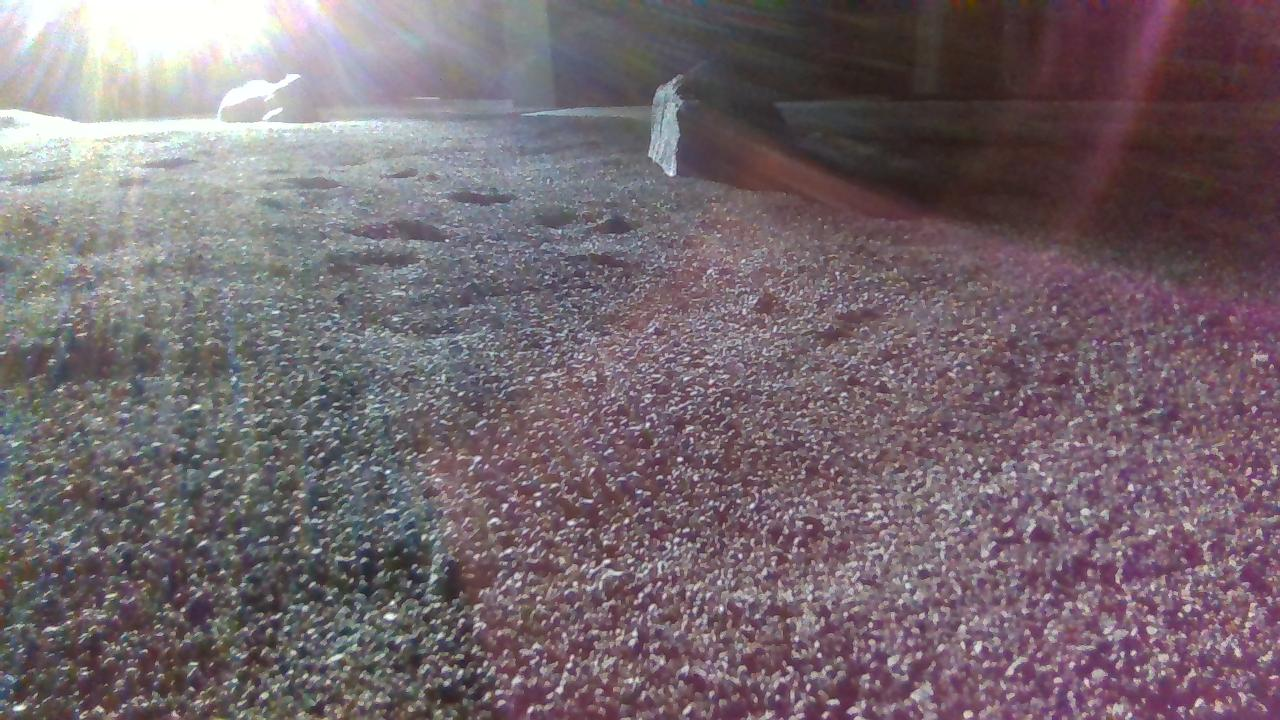rock: (649, 66, 794, 173), (216, 72, 317, 121)
